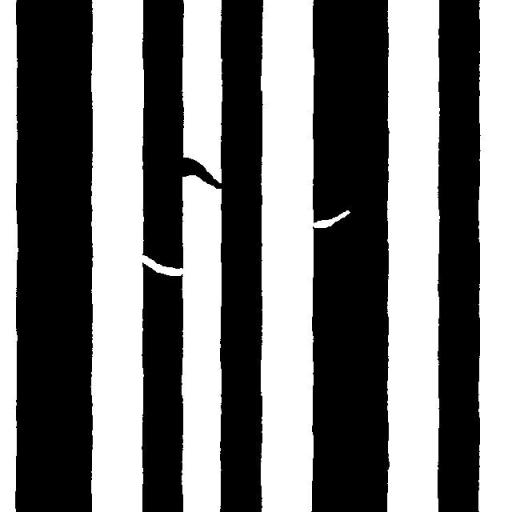mousebite: (304, 202, 358, 236)
open: (128, 247, 192, 283)
short: (166, 150, 233, 196)
